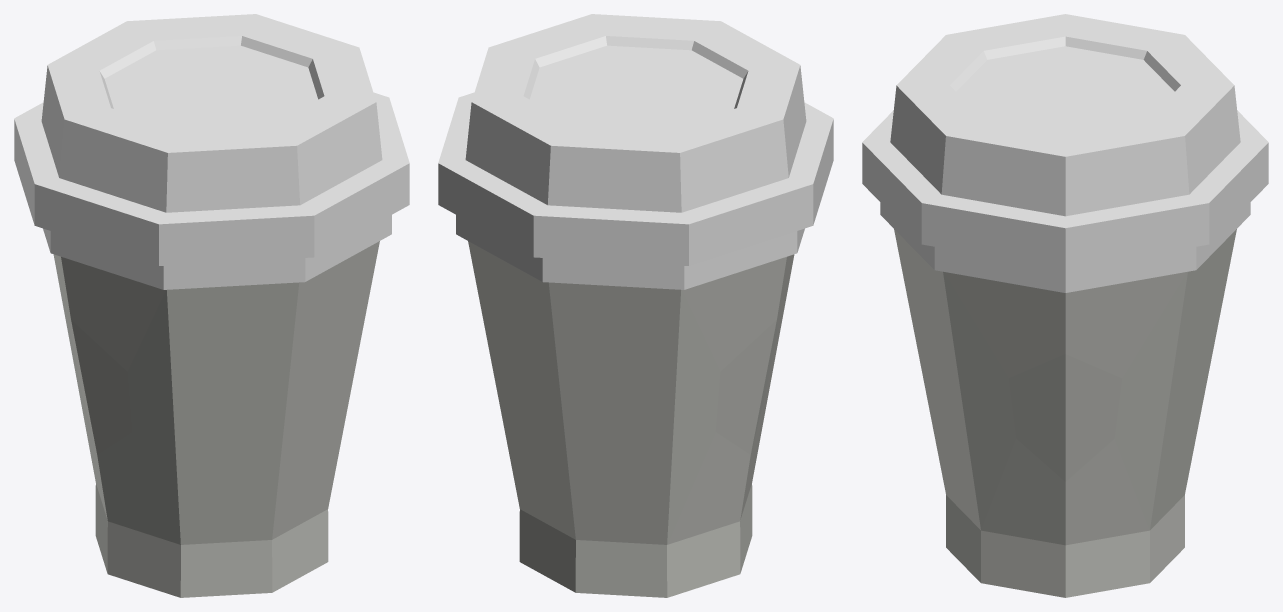
File: CoffeeCup.FBX
The picture shows the model from 3 angles, left to right: view 1: azimuth 30°, elevation 25°; view 2: azimuth 150°, elevation 25°; view 3: azimuth 270°, elevation 25°; orthographic projection.
Visible parts, largest first — view 1: CoffeeCup; view 2: CoffeeCup; view 3: CoffeeCup.
Part boxes in pixels (box(x1,y1,x2,y2)): CoffeeCup: box(14, 14, 409, 597); CoffeeCup: box(438, 14, 833, 597); CoffeeCup: box(862, 14, 1268, 597).
Bounding box in the file's own units: 17.98 × 22.54 × 17.98.
